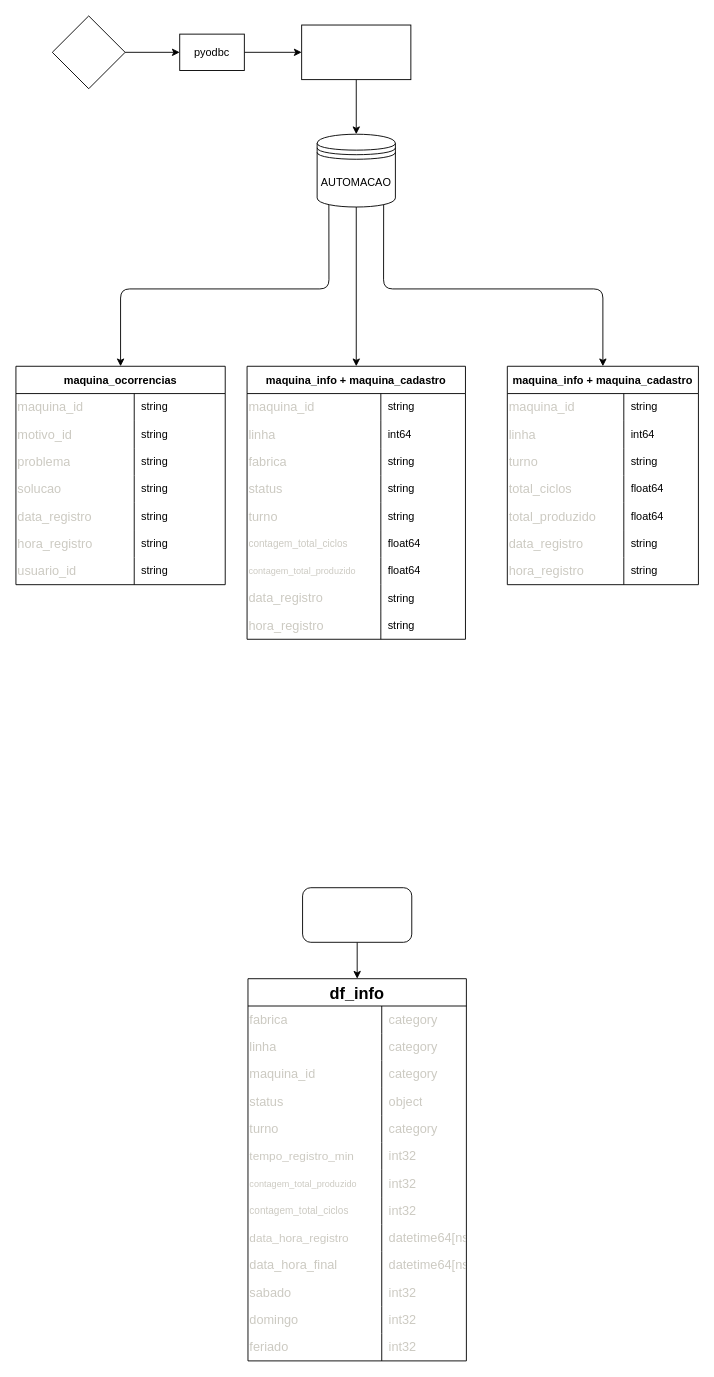
The diagram is 714 pixels wide and 1377 high, and some of its shapes have lost their labels. Each missing label, with the centre of its shape:
Clean Data: (357,914)
ODBC driver 17 for SQL Server: (356,52)
sqlAlchemy: (88,52)
